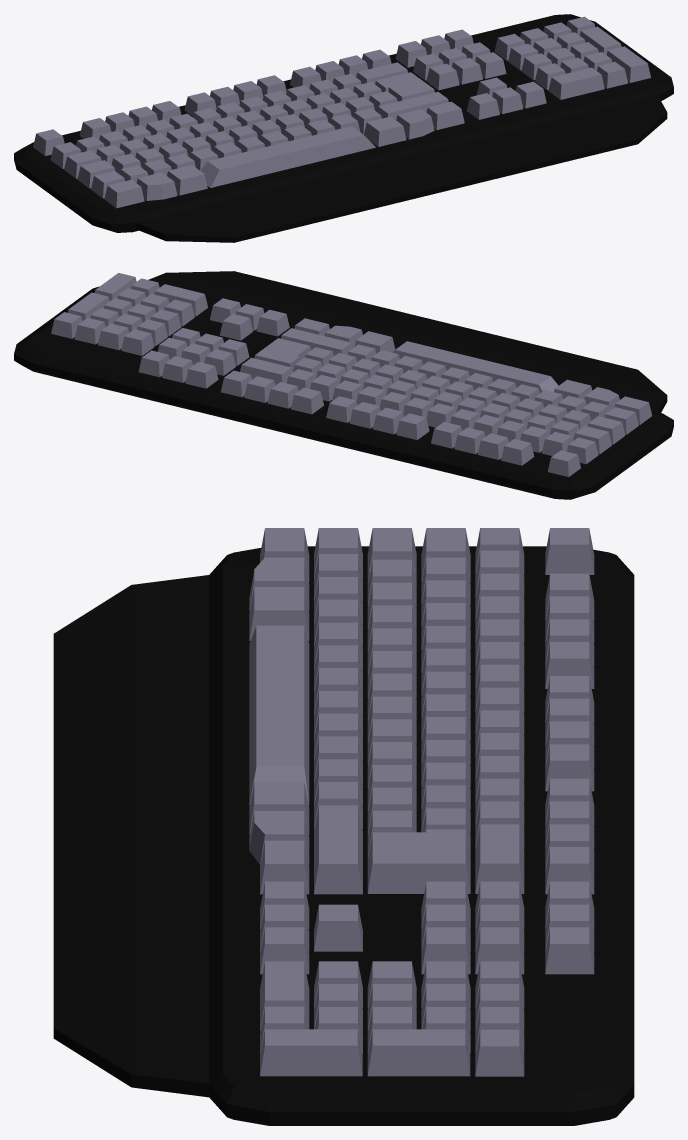
The model's file is keyboard5.glb.
3 renders of one model, top to bottom at view 1: azimuth 30°, elevation 25°; view 2: azimuth 150°, elevation 25°; view 3: azimuth 270°, elevation 25°, orthographic. The views are drawn at different scales.
Parts seen in each view (by area): view 1: Alusta, SPACE, Numerot ( 1 - 9 + 0 ), Cube.005, Cube.002, Cube.008, ( DEL ) ( END ) ( PD ), ( LEFT ) ( DOWN ) ( RIGHT ), ( F5 - f8 ), ( F1 - F4 ), ( F9 - f12 ), ( NL ) ( / ) ( * ) ( - ) (+23 smaller); view 2: Alusta, Numerot ( 1 - 9 + 0 ), Cube.005, Cube.002, Cube.008, SPACE, ( F5 - f8 ), ( NL ) ( / ) ( * ) ( - ), ( F1 - F4 ), ( F9 - f12 ), ( PS ) ( SL ) ( PB ), ( LEFT ) ( DOWN ) ( RIGHT ) (+22 smaller); view 3: Alusta, Numerot ( 1 - 9 + 0 ), Cube.005, Cube.002, Cube.008, SPACE, ENTER OIKEA, ( NL ) ( / ) ( * ) ( - ), ( F9 - f12 ), ( F5 - f8 ), ( F1 - F4 ), ( + ) (+23 smaller).
Part boxes in pixels (<box>): Alusta: <box>14,14,673,242</box>; SPACE: <box>200,126,375,187</box>; Numerot ( 1 - 9 + 0 ): <box>50,73,361,168</box>; Cube.005: <box>111,91,397,173</box>; Cube.002: <box>96,82,381,164</box>; Cube.008: <box>119,108,381,182</box>; ( DEL ) ( END ) ( PD ): <box>426,52,506,90</box>; ( LEFT ) ( DOWN ) ( RIGHT ): <box>466,81,546,119</box>; ( F5 - f8 ): <box>184,75,286,116</box>; ( F1 - F4 ): <box>79,101,181,139</box>; ( F9 - f12 ): <box>290,49,391,88</box>; ( NL ) ( / ) ( * ) ( - ): <box>494,16,595,60</box>; Alusta: <box>14,271,673,499</box>; Numerot ( 1 - 9 + 0 ): <box>286,369,598,464</box>; Cube.005: <box>305,347,590,428</box>; Cube.002: <box>293,357,579,440</box>; Cube.008: <box>347,344,609,420</box>; SPACE: <box>392,341,558,393</box>; ( F5 - f8 ): <box>326,396,429,439</box>; ( NL ) ( / ) ( * ) ( - ): <box>51,312,154,355</box>; ( F1 - F4 ): <box>431,422,534,465</box>; ( F9 - f12 ): <box>221,370,323,414</box>; ( PS ) ( SL ) ( PB ): <box>138,350,218,388</box>; ( LEFT ) ( DOWN ) ( RIGHT ): <box>209,298,289,336</box>; Alusta: <box>53,546,634,1125</box>; Numerot ( 1 - 9 + 0 ): <box>475,528,524,848</box>; Cube.005: <box>367,559,416,857</box>; Cube.002: <box>421,557,470,854</box>; Cube.008: <box>314,554,362,828</box>; SPACE: <box>249,625,309,804</box>; ENTER OIKEA: <box>367,829,470,893</box>; ( NL ) ( / ) ( * ) ( - ): <box>475,961,524,1076</box>; ( F9 - f12 ): <box>545,778,594,894</box>; ( F5 - f8 ): <box>545,676,594,791</box>; ( F1 - F4 ): <box>545,573,594,688</box>; ( + ): <box>367,1029,470,1076</box>.
Bounding box in the file's own units: 4972 × 270 × 2160.
